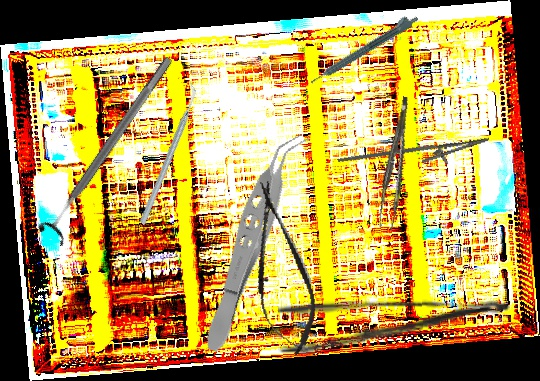Chopper: (94, 80, 241, 227)
Dressing Forceps: (277, 297, 511, 355)
Fixation Ring: (34, 48, 184, 248)
Handpiece: (306, 10, 420, 86)
Micro Scissor: (237, 176, 325, 360)
Needle Holder: (337, 118, 493, 193)
Tissue Forceps: (194, 125, 311, 357), (371, 96, 424, 231)
